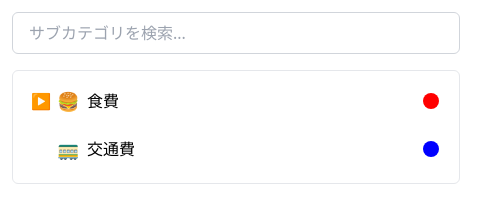
Test: SubcategorySelector › 検索機能 › 検索ボックスに入力すると、フィルタリングされる
Type "食" into the field with placeholder "サブカテゴリを検索..." at x=236, y=33, box left=12, top=12, right=460, bottom=54
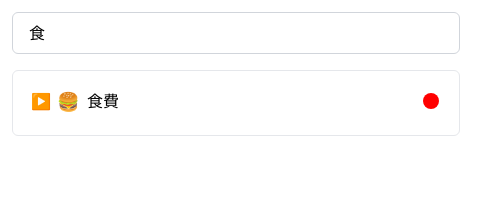
Expected: the text "食費" is shown, left=87, top=90, right=119, bottom=112
Now the button "交通費" is gone
